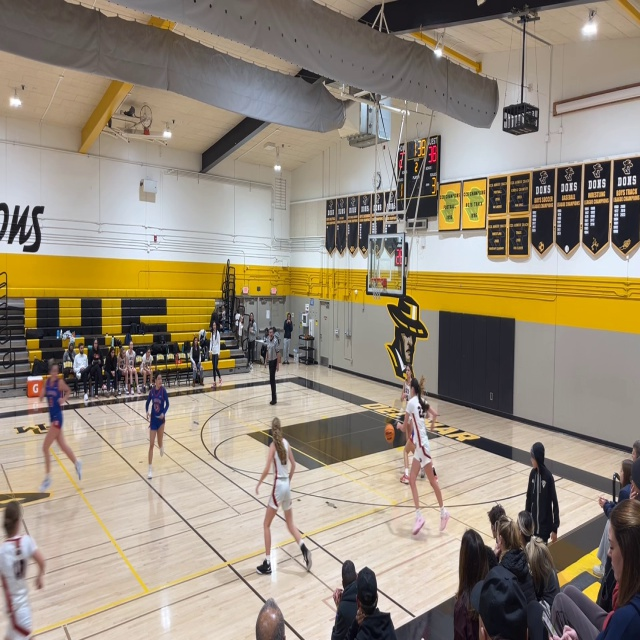Basketball: (384, 424, 395, 442)
